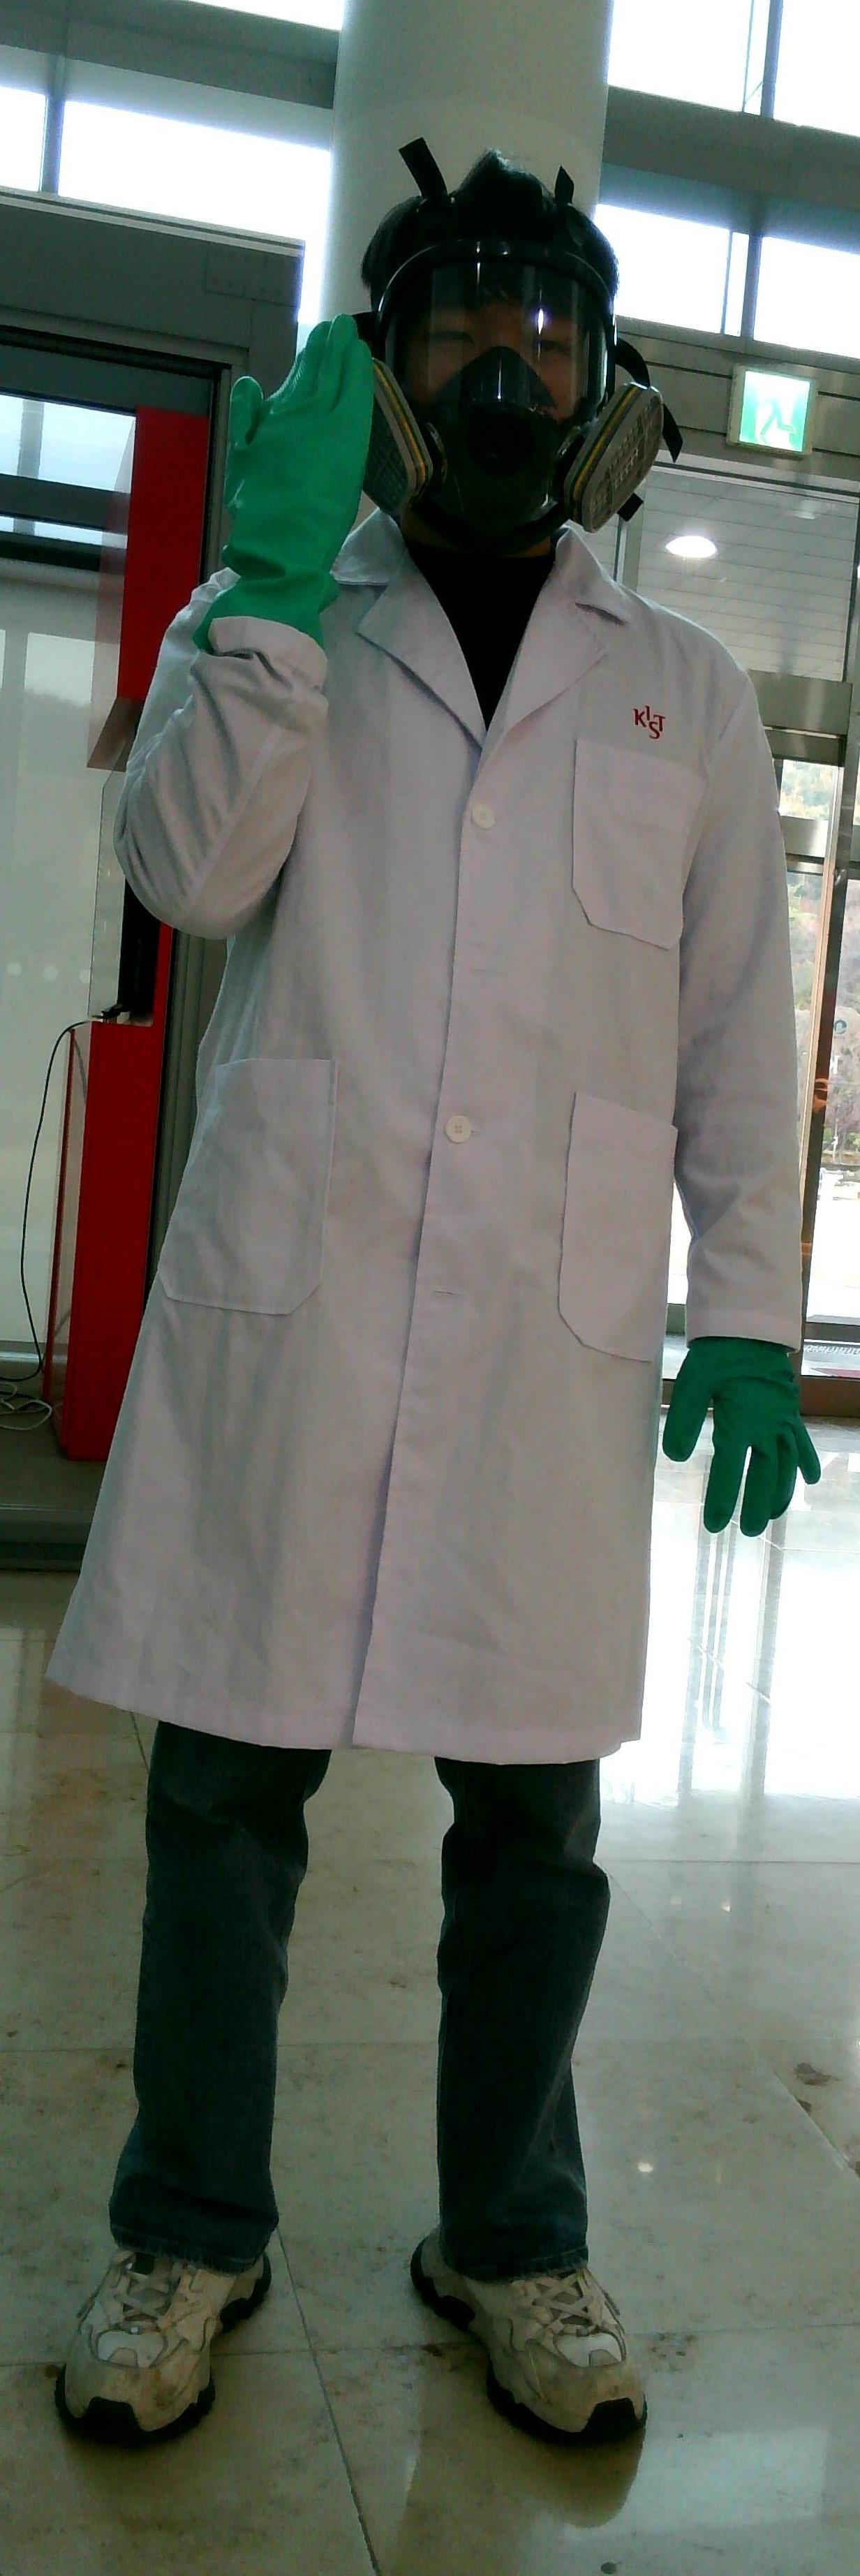lab_coat: (118, 651, 678, 1779)
